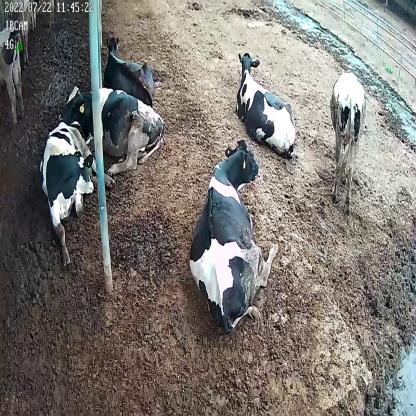cow: (186, 136, 280, 333), (41, 116, 118, 264), (59, 82, 165, 178), (233, 50, 298, 160), (331, 71, 366, 209), (102, 32, 156, 106)
